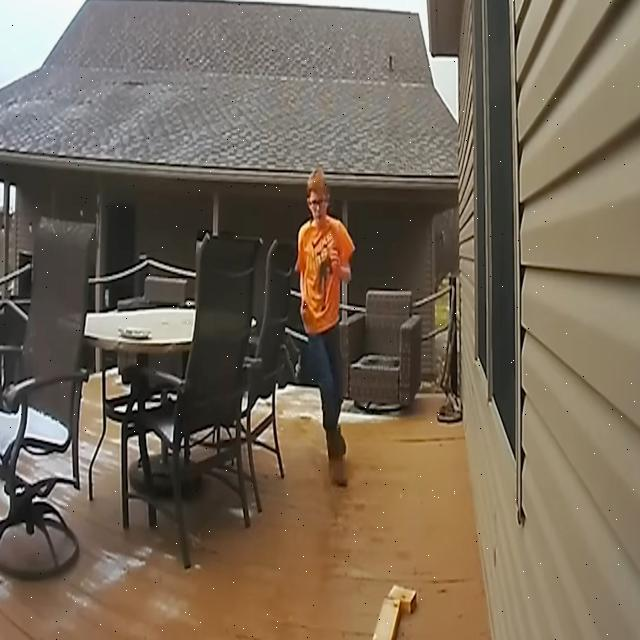standing: (295, 166, 354, 485)
